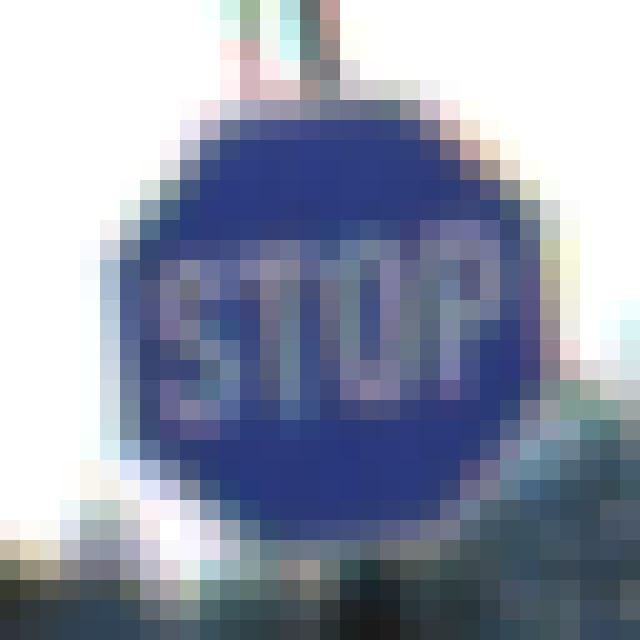STOP: (126, 116, 543, 537)
